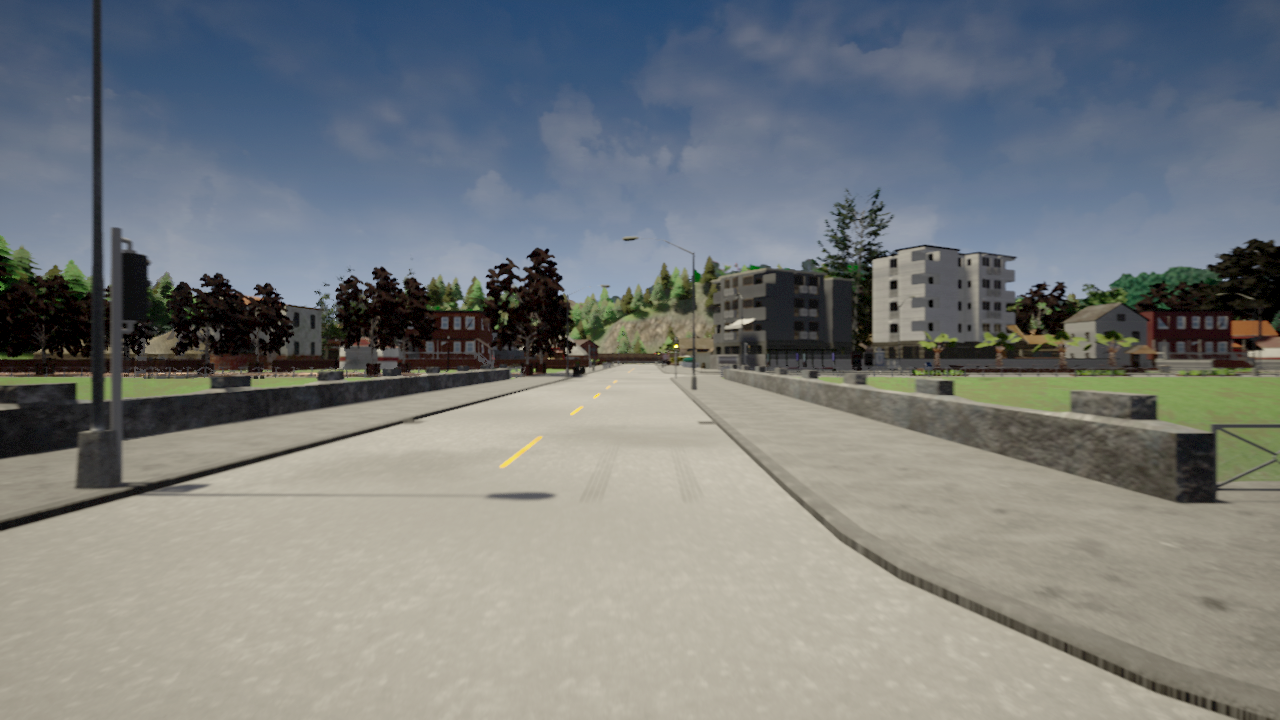yellow: (673, 339, 679, 352)
